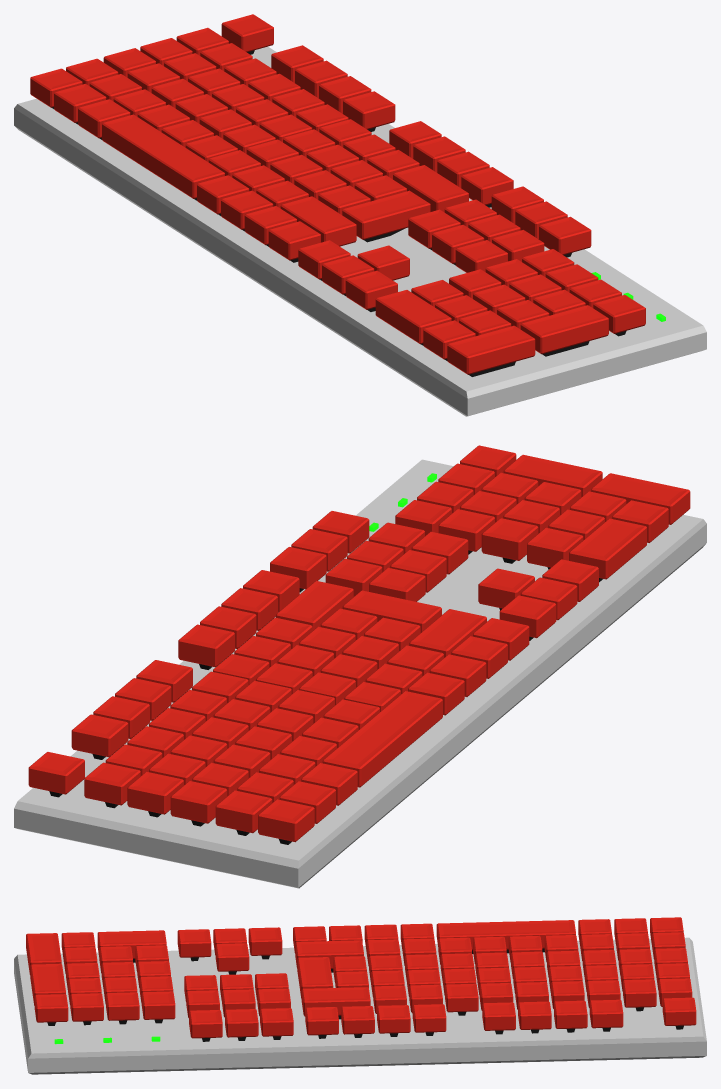
Rendered from keyboard.glb.
3 renders of one model, top to bottom at view 1: azimuth 30°, elevation 25°; view 2: azimuth 150°, elevation 25°; view 3: azimuth 270°, elevation 25°, orthographic. The views are drawn at different scales.
Parts seen in each view (by area): view 1: Keyboard, Key_79_Top, Key_75_Top, Key_47_Top, Key_40_Top, Key_87_Top, Key_70_Top, Key_22_Top, Key_12_Top, Key_5_Top, Key_1_Top, Key_29_Top (+77 smaller); view 2: Keyboard, Key_79_Top, Key_87_Top, Key_75_Top, Key_22_Top, Key_40_Top, Key_47_Top, Key_70_Top, Key_2_Top, Key_6_Top, Key_76_Top, Key_1_Top (+77 smaller); view 3: Keyboard, Key_79_Top, Key_22_Top, Key_70_Top, Key_87_Top, Key_40_Top, Key_75_Top, Key_47_Top, Key_86_Top, Key_71_Top, Key_29_Top, Key_6_Top (+77 smaller).
Part boxes in pixels (<box>): Keyboard: <box>14,46,706,416</box>; Key_79_Top: <box>102,114,224,198</box>; Key_75_Top: <box>447,325,535,374</box>; Key_47_Top: <box>520,305,608,354</box>; Key_40_Top: <box>342,190,430,239</box>; Key_87_Top: <box>375,290,451,344</box>; Key_70_Top: <box>280,196,356,246</box>; Key_22_Top: <box>393,165,468,212</box>; Key_12_Top: <box>539,216,591,254</box>; Key_5_Top: <box>343,91,395,129</box>; Key_1_Top: <box>221,14,273,52</box>; Key_29_Top: <box>593,295,645,333</box>; Keyboard: <box>14,459,706,888</box>; Key_79_Top: <box>322,691,442,787</box>; Key_87_Top: <box>569,518,646,579</box>; Key_75_Top: <box>591,473,690,524</box>; Key_22_Top: <box>276,581,353,630</box>; Key_40_Top: <box>342,590,441,632</box>; Key_47_Top: <box>503,454,602,496</box>; Key_70_Top: <box>409,609,486,657</box>; Key_2_Top: <box>71,714,128,757</box>; Key_6_Top: <box>178,624,234,667</box>; Key_76_Top: <box>258,799,314,842</box>; Key_1_Top: <box>28,752,84,794</box>; Keyboard: <box>14,937,706,1074</box>; Key_79_Top: <box>436,920,575,950</box>; Key_22_Top: <box>301,987,370,1016</box>; Key_70_Top: <box>295,940,363,968</box>; Key_87_Top: <box>97,930,166,958</box>; Key_40_Top: <box>297,957,333,998</box>; Key_75_Top: <box>26,933,61,974</box>; Key_47_Top: <box>30,963,65,1005</box>; Key_86_Top: <box>177,929,211,957</box>; Key_71_Top: <box>215,943,249,971</box>; Key_29_Top: <box>34,994,68,1022</box>; Key_6_Top: <box>412,1004,446,1032</box>.
Size of the model in its own units: 0.3486 by 0.0627 by 0.8727.
